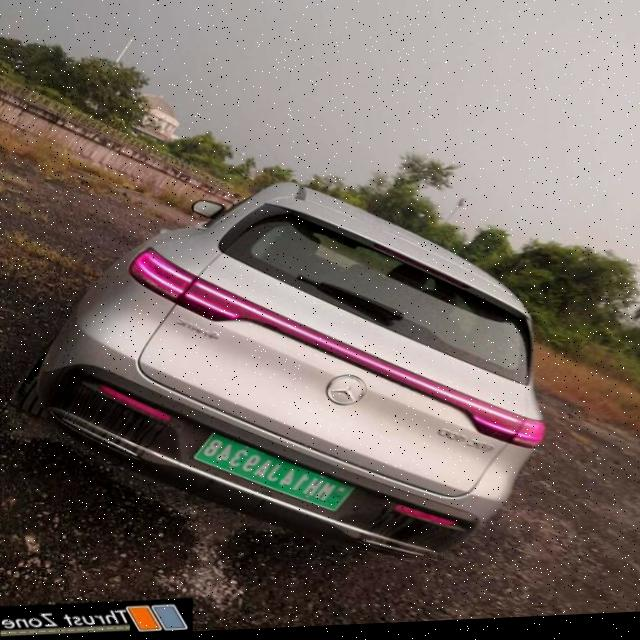plate: (194, 426, 358, 520)
